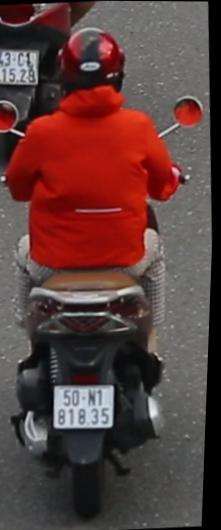LP: (49, 376, 123, 445)
helmet: (51, 24, 127, 104)
